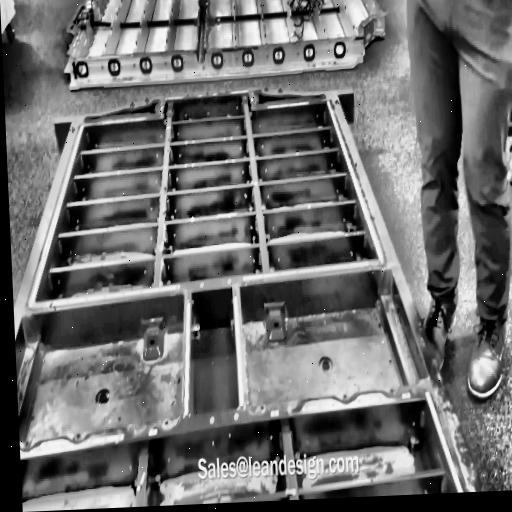b_casing: (14, 87, 485, 512)
